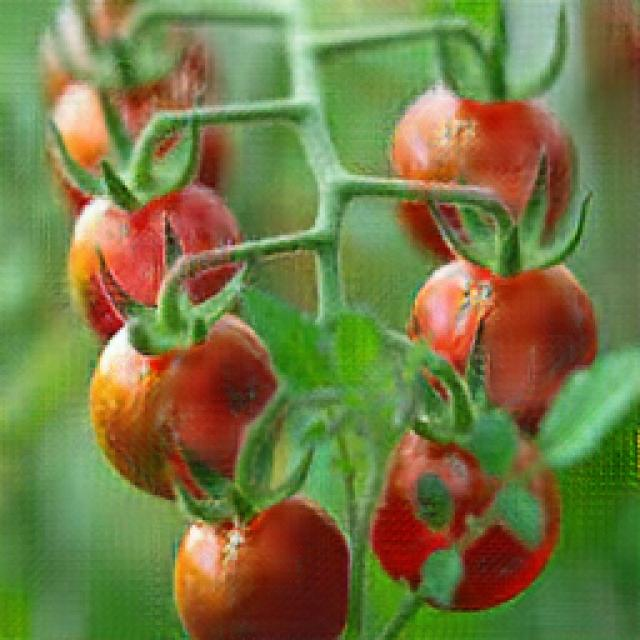overripe tomato: (87, 308, 289, 504), (408, 248, 592, 434), (175, 500, 350, 640)
